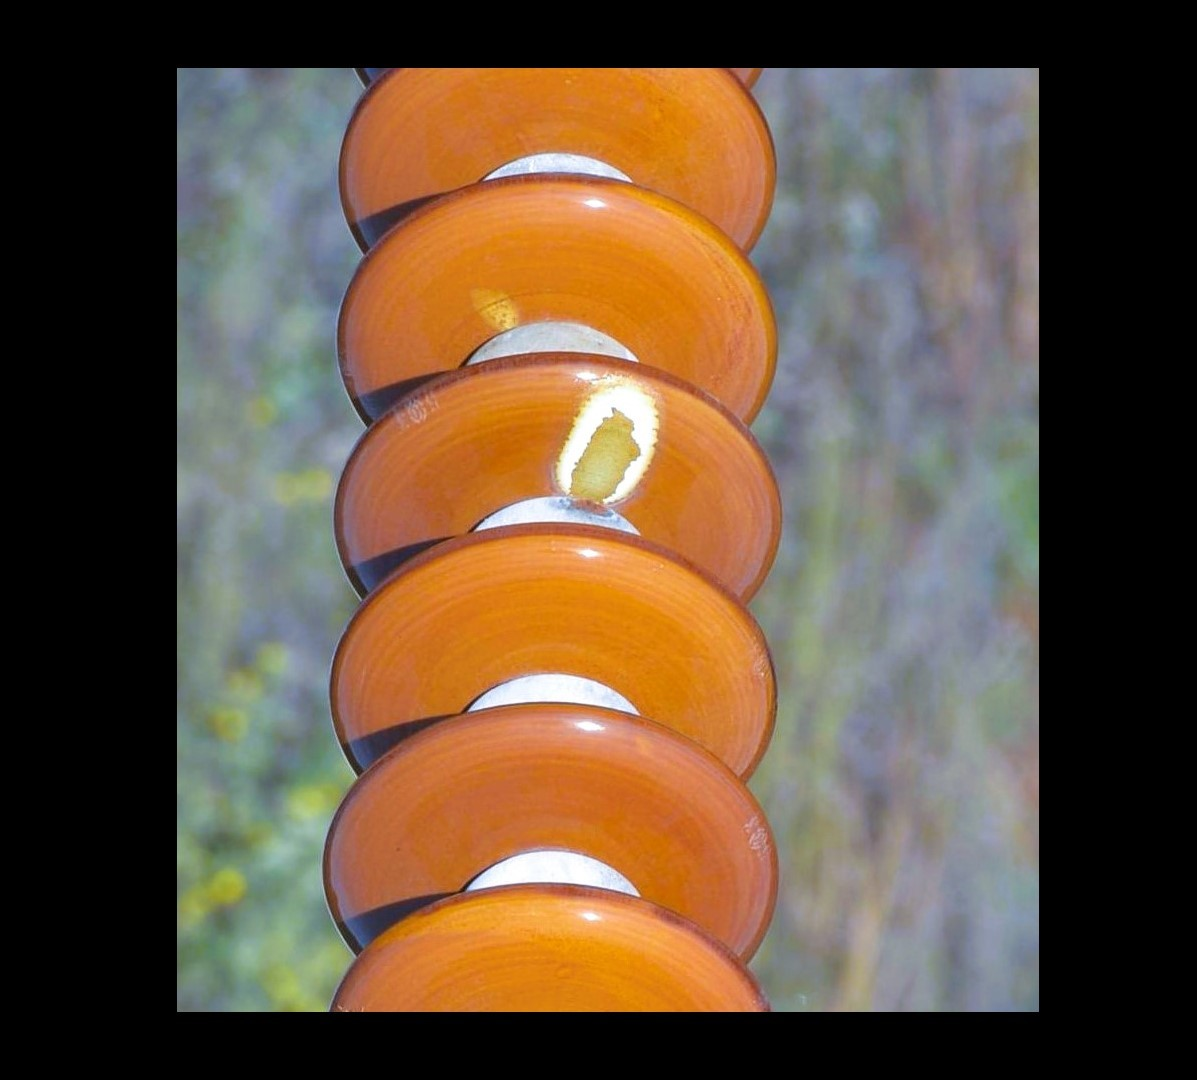Insulator flashover: (322, 346, 800, 618)
